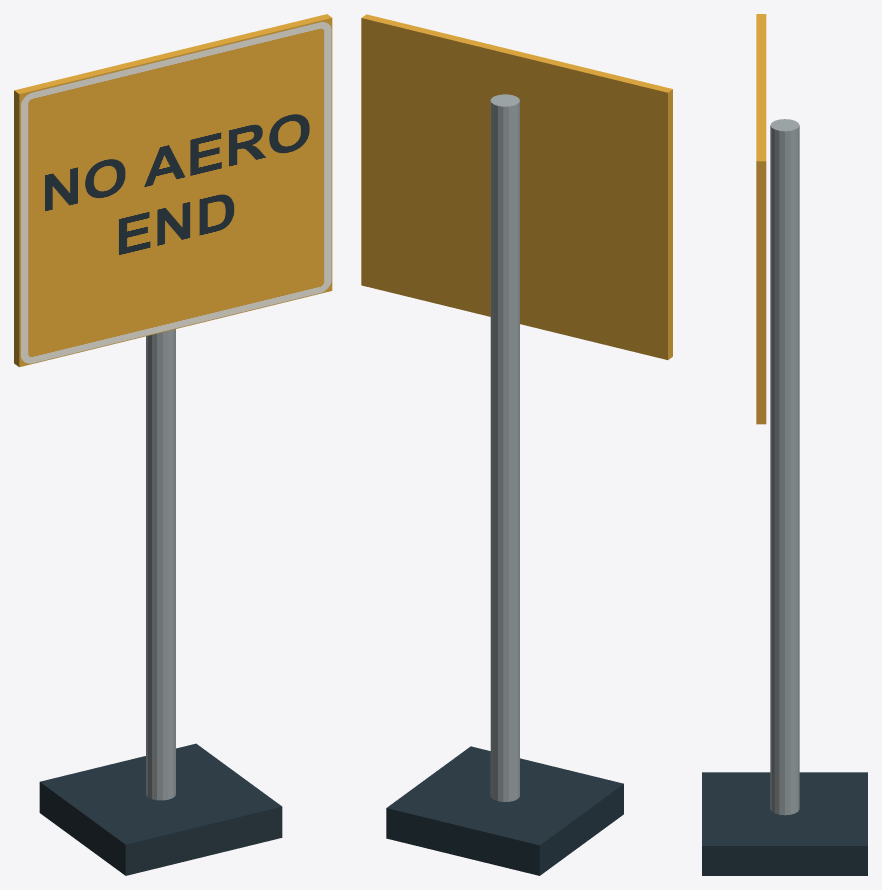
File: scendance-plan-no-aero-end.glb
3 renders of one model, left to right at view 1: azimuth 30°, elevation 25°; view 2: azimuth 150°, elevation 25°; view 3: azimuth 270°, elevation 25°, orthographic. The views are drawn at different scales.
Size of the model in its own units: 0.84 by 2 by 0.4.
Materials: 4 (1 with a texture image).
